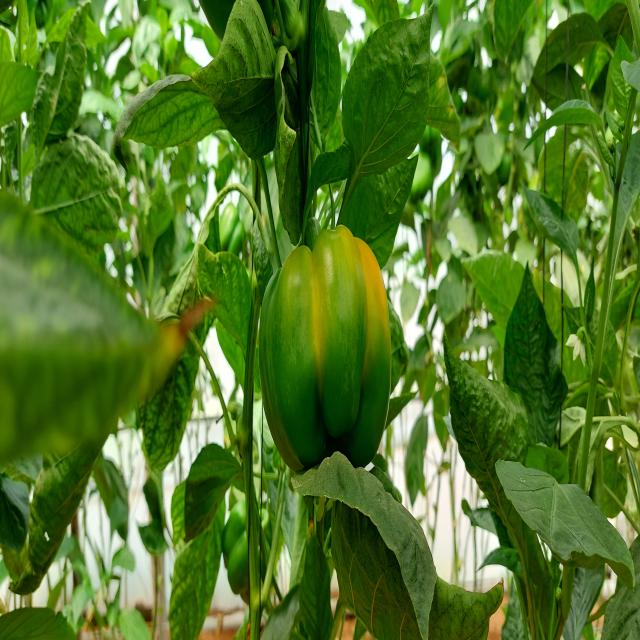GreenishYellow--Can-be-Harvested: (256, 226, 386, 479)
